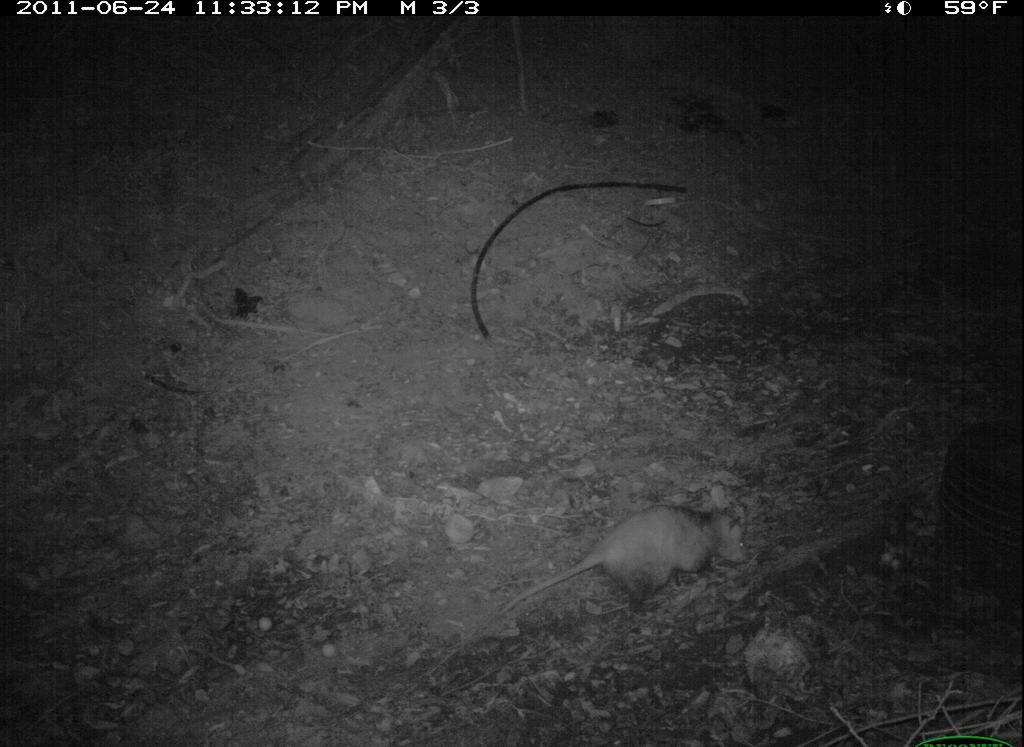opossum: (501, 495, 758, 629)
